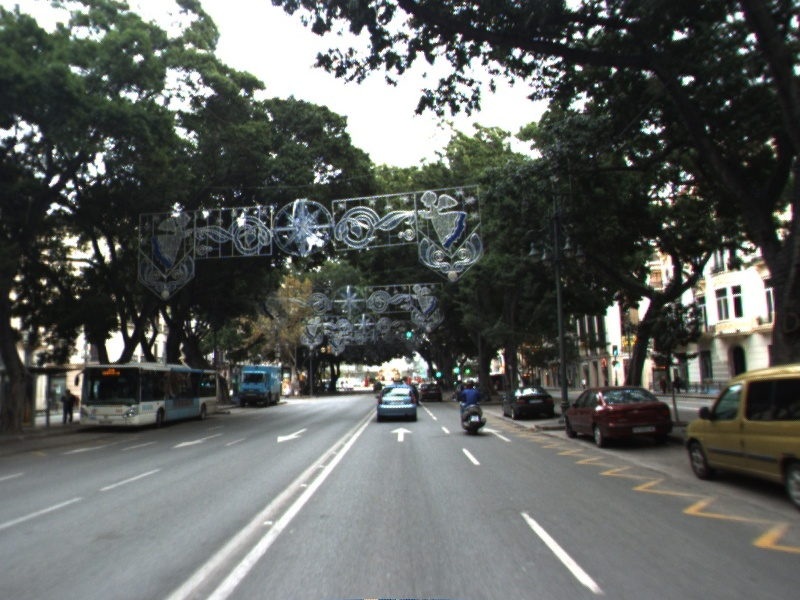STRAIGHT: (481, 425, 513, 443), (388, 426, 415, 443)
